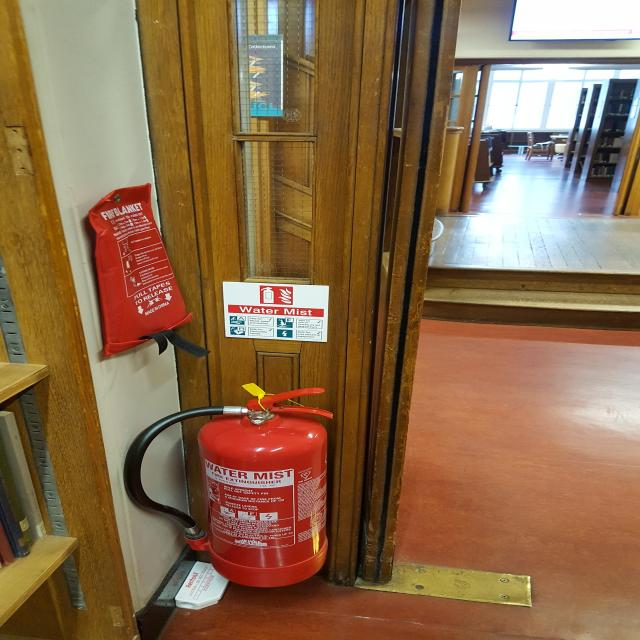fire_extinguisher: (120, 384, 338, 592)
